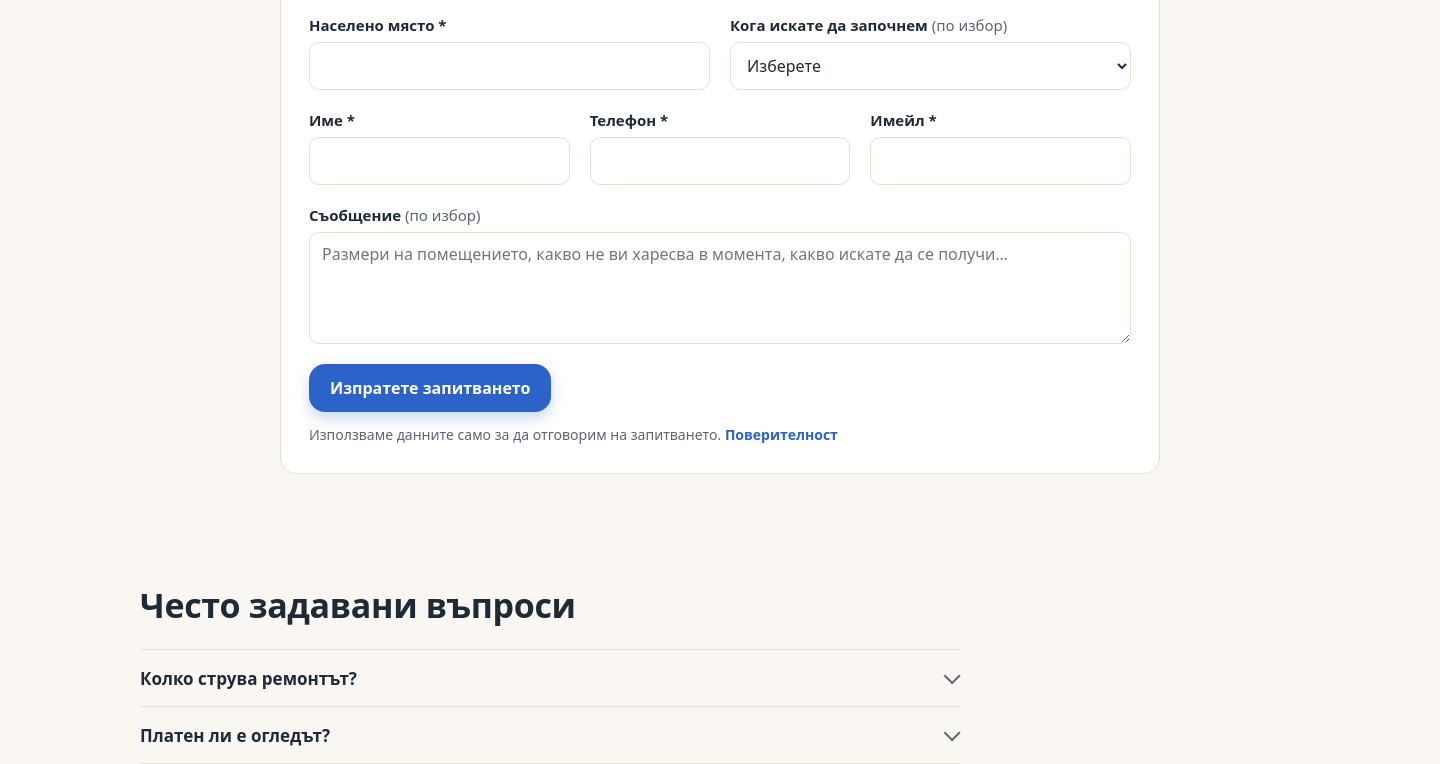
the enquiry form › marks the radios, not the group, when no service is chosen
(page scrolled)
Click the button "Изпратете запитването".
click(430, 388)  # box [309,364,551,412]
(page scrolled)
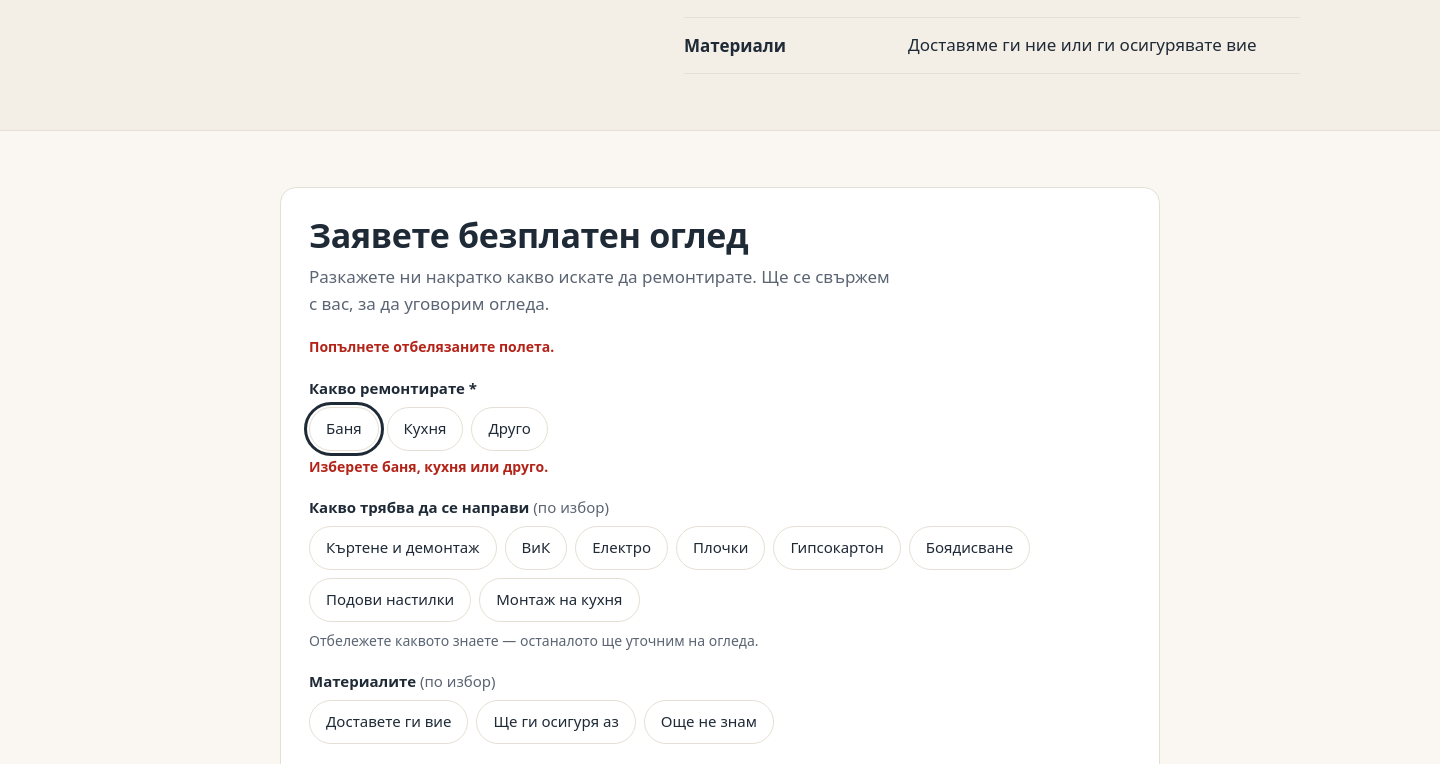
Result: the text "Изберете баня, кухня или друго." is shown at [309,457,548,476]
